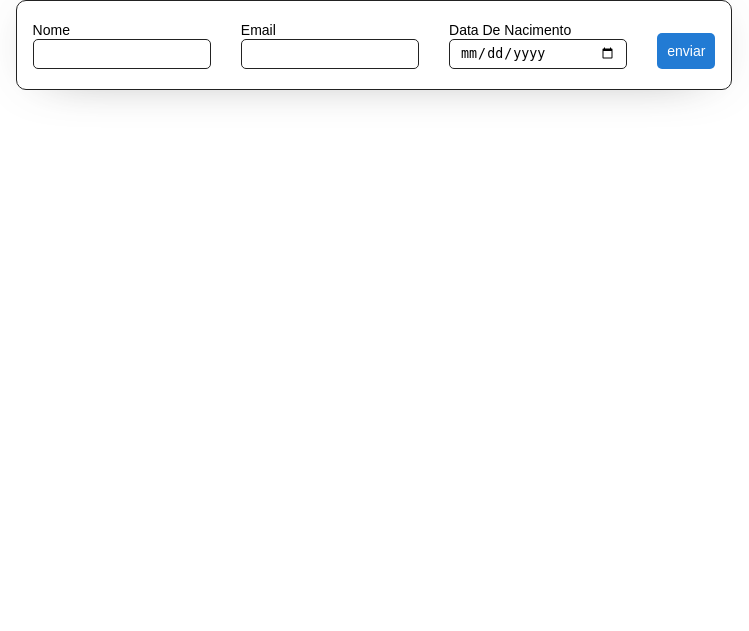
Test: <Form /> › should return an error for not adding an email
Type "eduardo" into the field labelled "nome" at point(122, 54), box top-left (33, 38), bottom-right (211, 68)
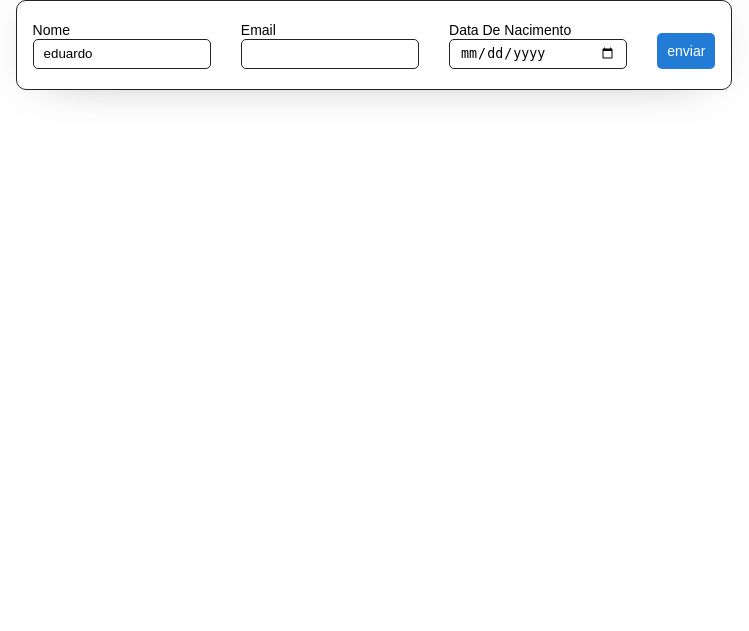
Click the button at point(686, 51), box top-left (657, 33), bottom-right (715, 69)
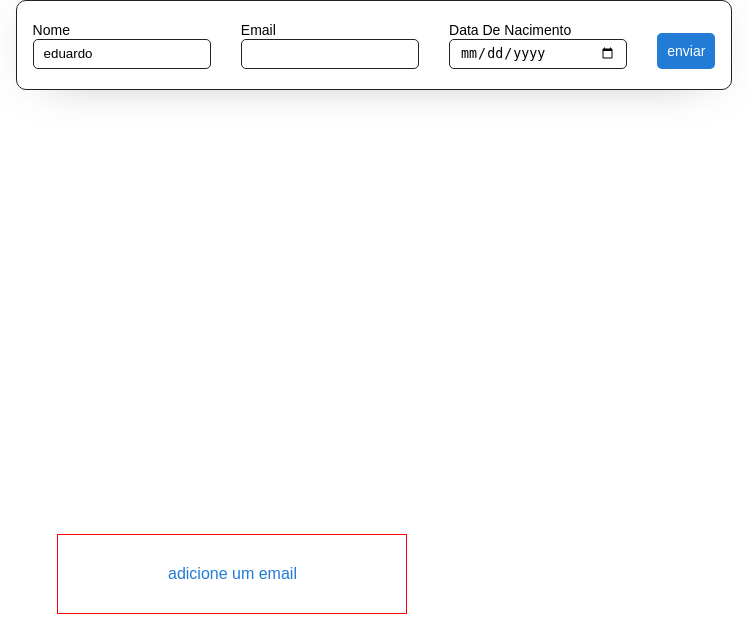
Result: the message reads "adicione um email" at top-left (168, 565), bottom-right (297, 582)
